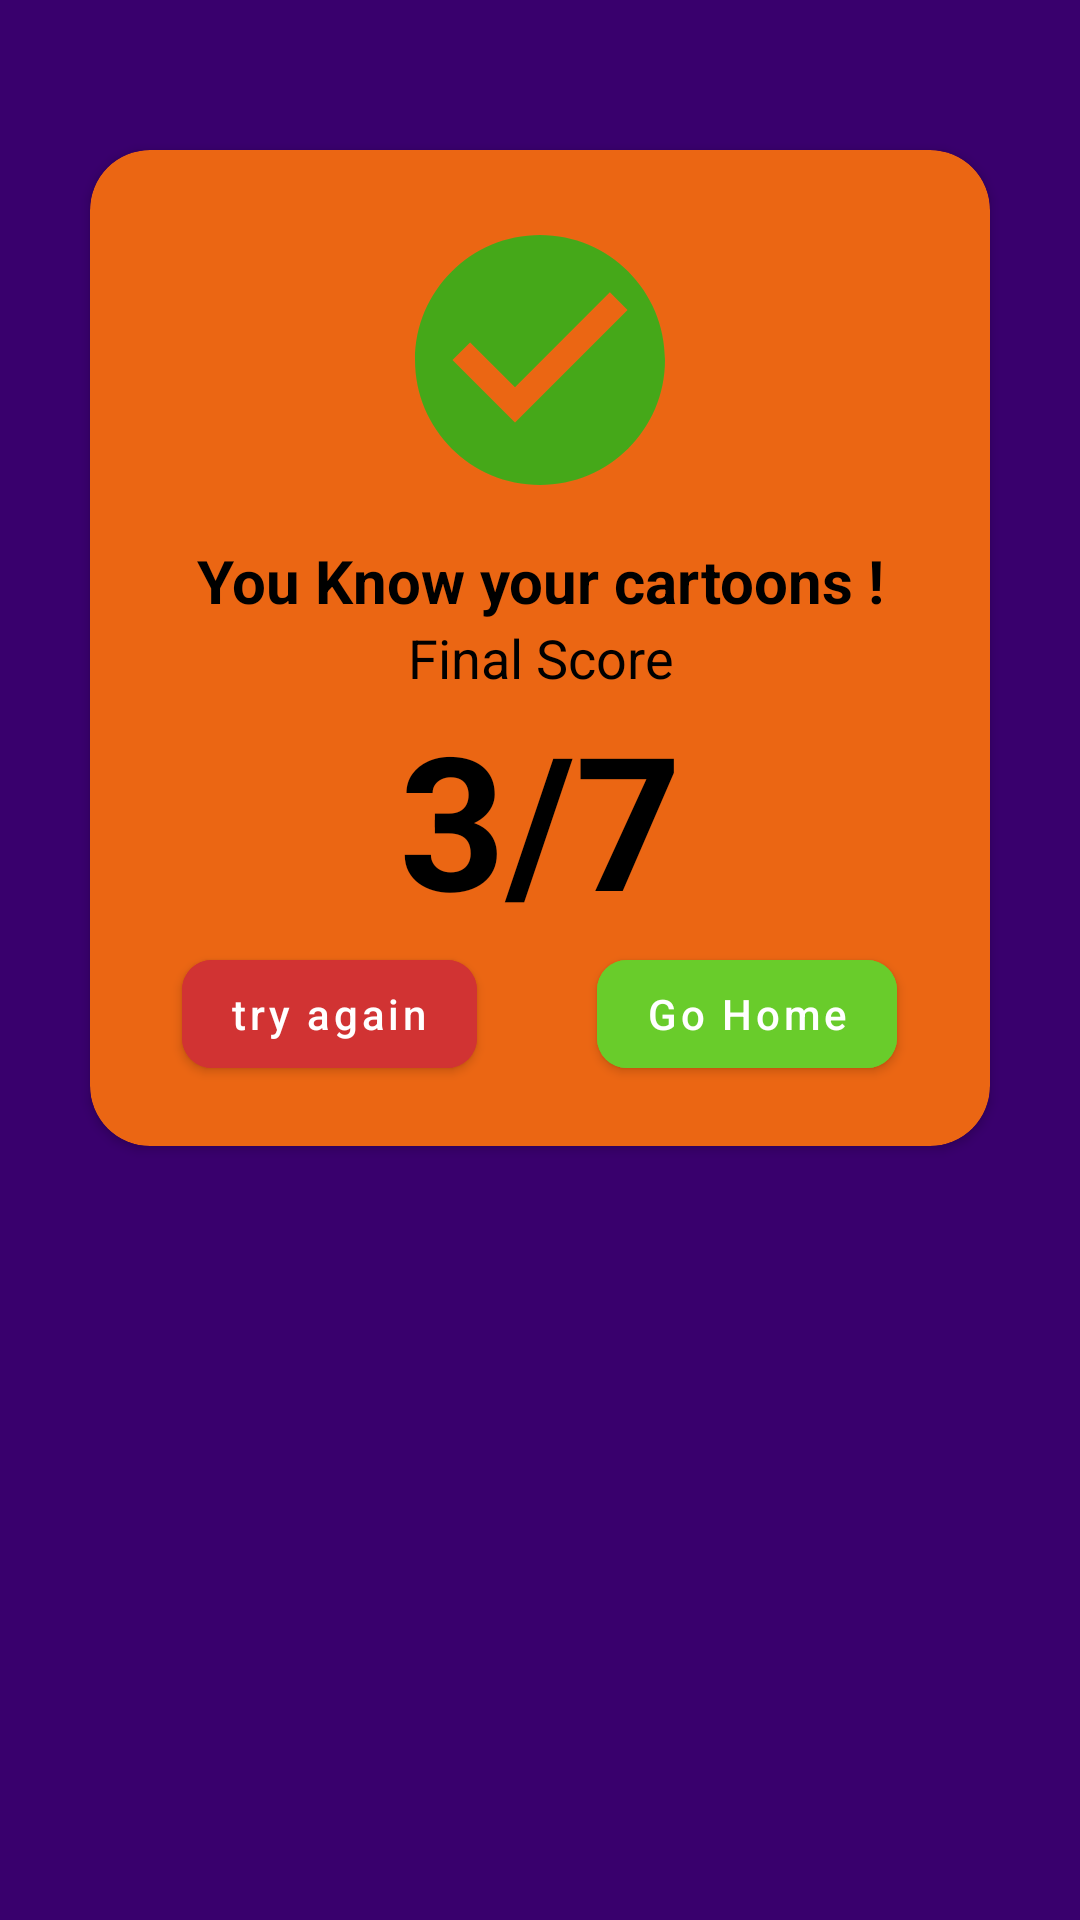

Icon bounding boxes for this 1080 x 1920 phone screenshot, format {"x1": x1, "y1": y1, "x2": x2, "y2": y2}:
success: {"x1": 415, "y1": 235, "x2": 665, "y2": 485}
